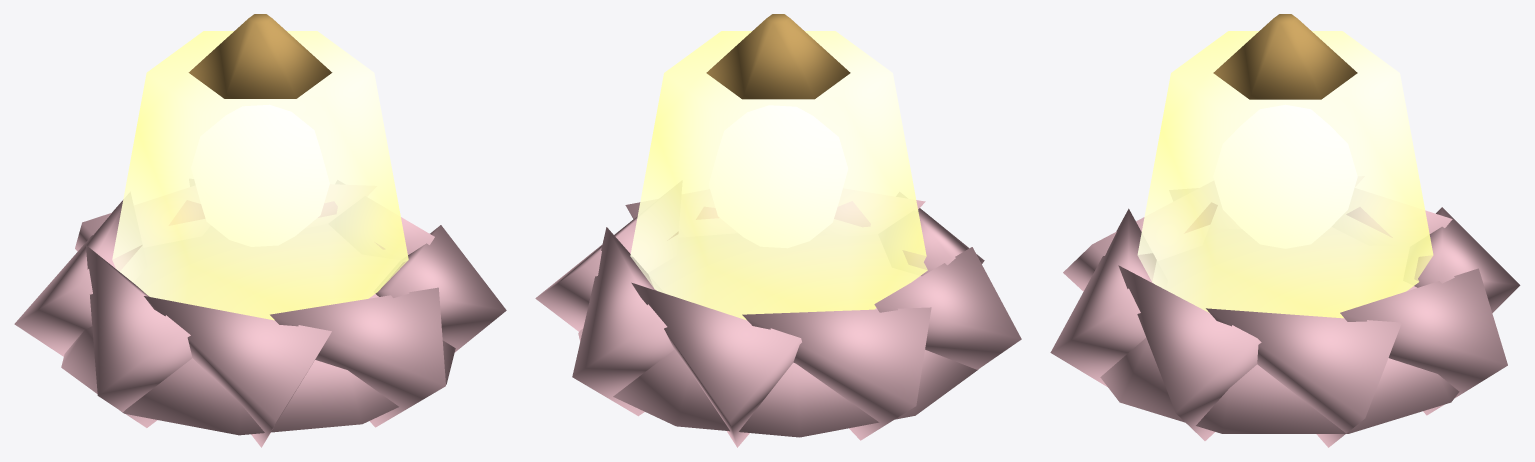
File: xy_item_riverlamp.glb
The picture shows the model from 3 angles, left to right: view 1: azimuth 30°, elevation 25°; view 2: azimuth 150°, elevation 25°; view 3: azimuth 270°, elevation 25°; orthographic projection.
Visible parts, largest first — view 1: xy_item_riverlamp; view 2: xy_item_riverlamp; view 3: xy_item_riverlamp.
Part boxes in pixels (<box>): xy_item_riverlamp: <box>14,14,506,447</box>; xy_item_riverlamp: <box>535,14,1021,447</box>; xy_item_riverlamp: <box>1050,14,1520,447</box>.
Size of the model in its own units: 0.78 by 0.6652 by 0.78.
